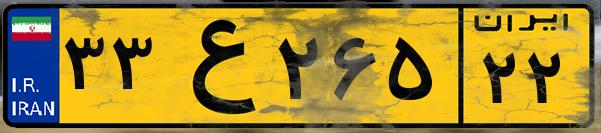2: (270, 28, 330, 110), (475, 38, 525, 113), (525, 38, 570, 115)
3: (57, 26, 110, 100), (110, 28, 158, 98)
5: (385, 28, 445, 110)
6: (330, 28, 385, 110)
ع: (158, 12, 270, 120)
